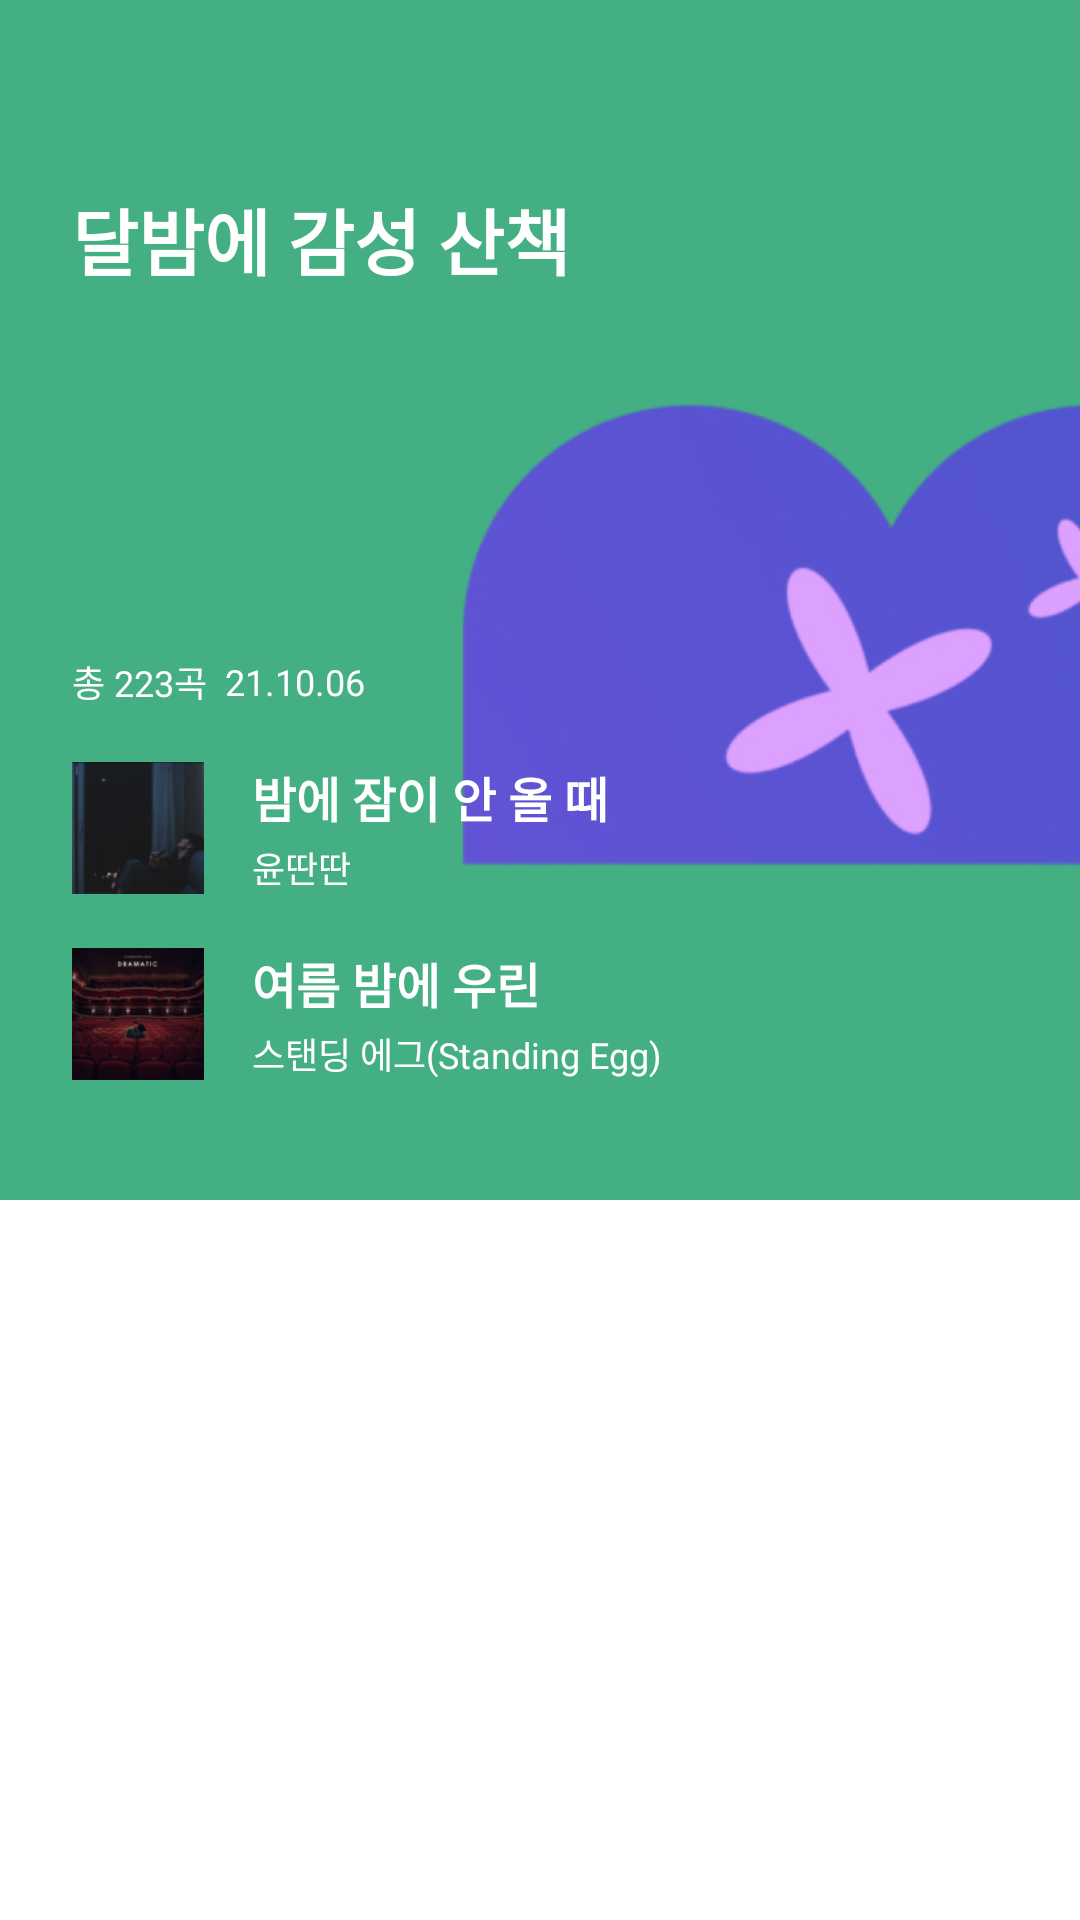

Icon bounding boxes for this 1080×1920 phone screenshot, format (x1, y1, x2, y2):
album exp: (72, 762, 204, 894), (72, 948, 204, 1080)
